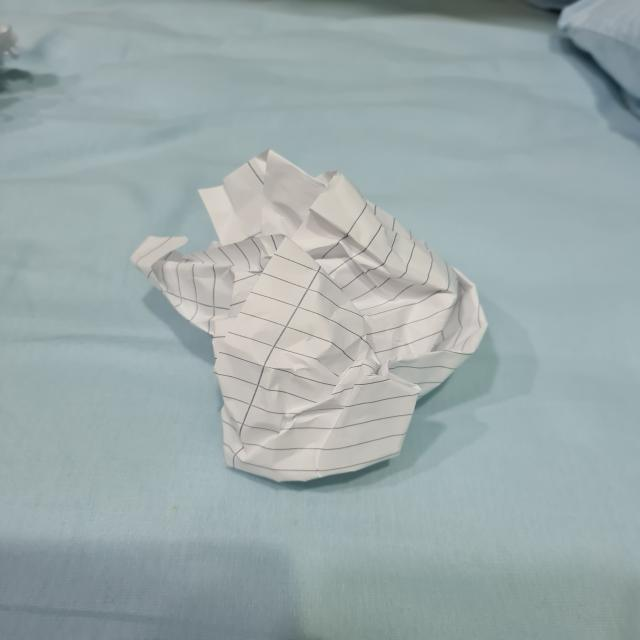Paper: (128, 154, 495, 491)
